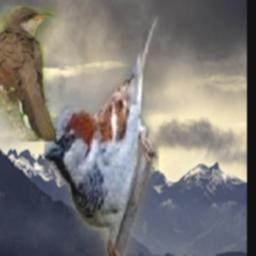Cuckoo: (0, 7, 57, 143)
Sparrow: (44, 15, 159, 256)
